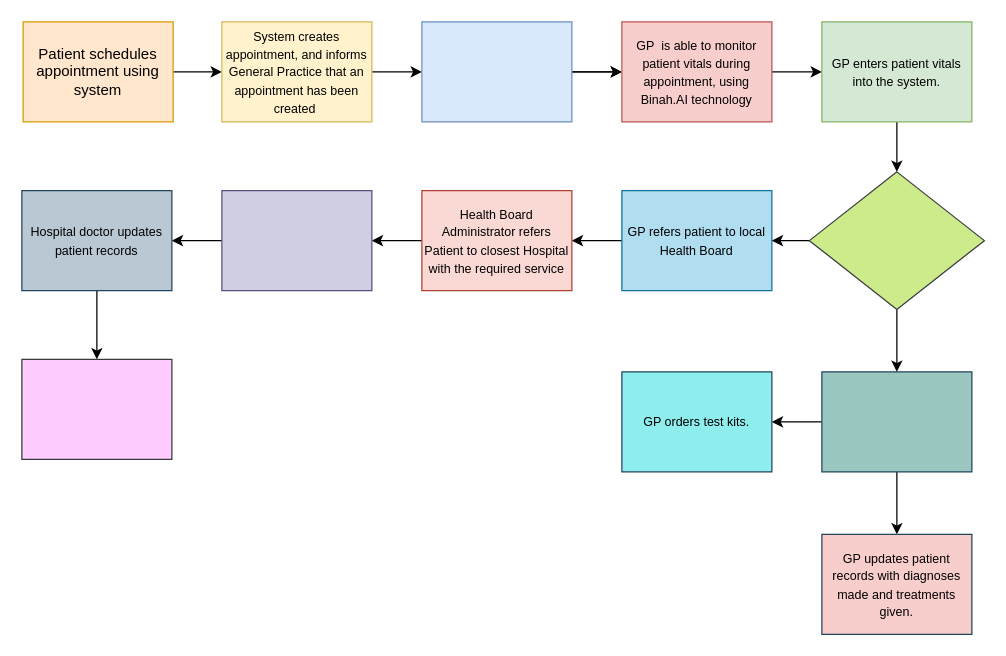
Image size: 1006x656. Some labels were removed from this diagram. Each missing label, with the centre of its shape:
GP & Patient have a meeting: (496,71)
GP identifies a reason for treatment: (896,240)
GP is notified.: (96,408)
GP treats patient: (896,421)
Hospital doctor treats Patient: (296,240)
